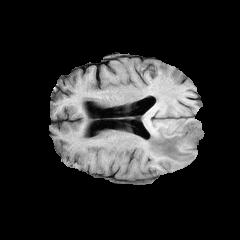glioma: (147, 120, 204, 162)
